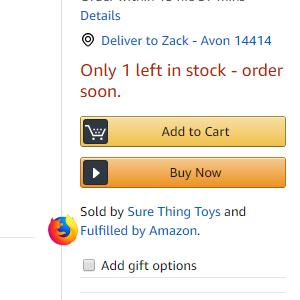firefox: (48, 214, 78, 245)
